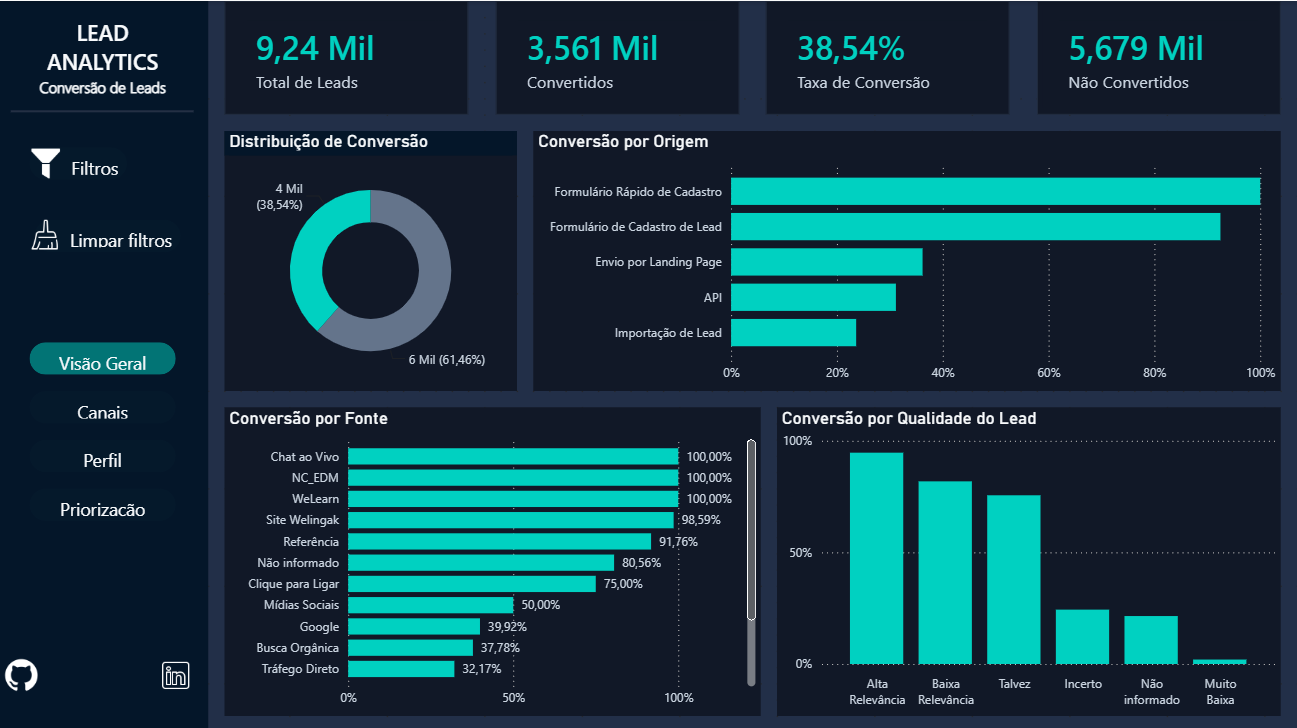

The dashboard page shown, as its layout file describes it:
{"tool":"powerbi","page":{"name":"01 Visão Geral","canvas":[1280,720],"ordinal":0},"visuals":[{"type":"shape","box":[0,0,208,720],"z":0,"group":"g1"},{"type":"cardVisual","fields":{"Data":["leads_tratados_mvp1.Total de Leads"]},"box":[224,0,240,112],"z":0},{"type":"actionButton","title":"Filtros","box":[32,480,144,32],"z":125,"group":"g1"},{"type":"actionButton","title":"Filtros","box":[32,336,144,32],"z":250,"group":"g1"},{"type":"image","box":[0,640,48,48],"z":500,"group":"g1"},{"type":"actionButton","title":"Filtros","box":[32,384,144,32],"z":750,"group":"g1"},{"type":"actionButton","title":"Filtros","box":[32,432,144,32],"z":875,"group":"g1"},{"type":"cardVisual","fields":{"Data":["leads_tratados_mvp1.Leads Convertidos"]},"box":[490.7,0,240,112],"z":1000},{"type":"textbox","box":[0,10.8,207.8,89.1],"z":1000,"group":"g1"},{"type":"textbox","box":[0,70.7,208,41.8],"z":2000,"group":"g1"},{"type":"donutChart","title":"Distribuição de Conversão","fields":{"Category":["leads_tratados_mvp1.Status Conversão"],"Y":["leads_tratados_mvp1.Total de Leads"]},"box":[224,128,288,256],"z":2000},{"type":"cardVisual","fields":{"Data":["leads_tratados_mvp1.Leads Não Convertidos"]},"box":[1024,0,240,112],"z":3000},{"type":"shape","box":[13.3,69.3,180.2,79.4],"z":3000,"group":"g1"},{"type":"cardVisual","fields":{"Data":["leads_tratados_mvp1.Taxa de Conversão"]},"box":[757.3,0,240,112],"z":4000},{"type":"actionButton","title":"Filtros","box":[32,144,96,32],"z":4000,"group":"g1"},{"type":"image","box":[32,144,32,32],"z":5000,"group":"g1"},{"type":"barChart","title":"Conversão por Fonte","fields":{"Category":["leads_tratados_mvp1.fonte_do_lead"],"Y":["leads_tratados_mvp1.Taxa de Conversão"]},"box":[224,400,528,304],"z":5000},{"type":"actionButton","title":"Filtros","box":[37,215,144,32],"z":5500,"group":"g1"},{"type":"image","box":[160,640,32,48],"z":5750,"group":"g1"},{"type":"image","box":[32,215,32,32],"z":6000,"group":"g1"},{"type":"image","box":[32,144,32,32],"z":8000},{"type":"barChart","title":"Conversão por Origem","fields":{"Category":["leads_tratados_mvp1.origem_do_lead"],"Y":["leads_tratados_mvp1.Taxa de Conversão"]},"box":[528,128,736,256],"z":9000},{"type":"group","id":"g1","title":"Grupo 2","box":[0,0,208,720],"z":11000},{"type":"columnChart","title":"Conversão por Qualidade do Lead","fields":{"Category":["leads_tratados_mvp1.qualidade_do_lead"],"Y":["leads_tratados_mvp1.Taxa de Conversão"]},"box":[768,400,496,304],"z":12000}]}

Visuals, with their boxes in screenshot pixels (x1, y1, x2, y2), scaled from the page's 1280x720 canvas onto the 1297x728 screenshot:
shape: l=0, t=0, r=211, b=727
cardVisual - leads_tratados_mvp1.Total de Leads: l=227, t=0, r=470, b=113
"Filtros" actionButton: l=32, t=485, r=178, b=518
"Filtros" actionButton: l=32, t=340, r=178, b=372
image: l=0, t=647, r=49, b=696
"Filtros" actionButton: l=32, t=388, r=178, b=421
"Filtros" actionButton: l=32, t=437, r=178, b=469
cardVisual - leads_tratados_mvp1.Leads Convertidos: l=497, t=0, r=740, b=113
textbox: l=0, t=11, r=211, b=101
textbox: l=0, t=71, r=211, b=114
"Distribuição de Conversão" donutChart: l=227, t=129, r=519, b=388
cardVisual - leads_tratados_mvp1.Leads Não Convertidos: l=1038, t=0, r=1281, b=113
shape: l=13, t=70, r=196, b=150
cardVisual - leads_tratados_mvp1.Taxa de Conversão: l=767, t=0, r=1011, b=113
"Filtros" actionButton: l=32, t=146, r=130, b=178
image: l=32, t=146, r=65, b=178
"Conversão por Fonte" barChart: l=227, t=404, r=762, b=712
"Filtros" actionButton: l=37, t=217, r=183, b=250
image: l=162, t=647, r=195, b=696
image: l=32, t=217, r=65, b=250
image: l=32, t=146, r=65, b=178
"Conversão por Origem" barChart: l=535, t=129, r=1281, b=388
"Grupo 2" group: l=0, t=0, r=211, b=727
"Conversão por Qualidade do Lead" columnChart: l=778, t=404, r=1281, b=712
